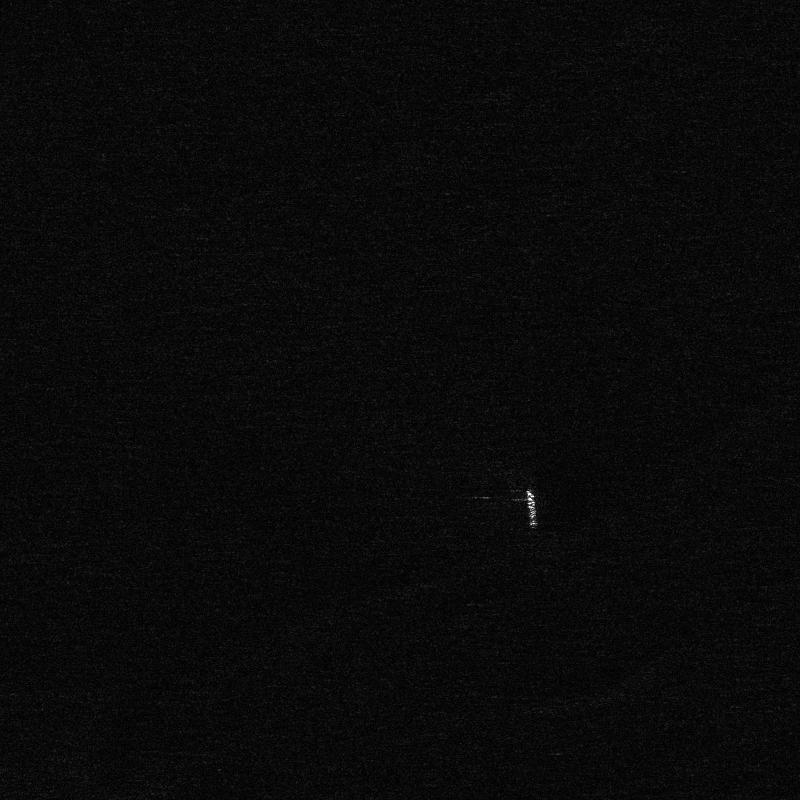ship: (525, 489, 537, 528)
